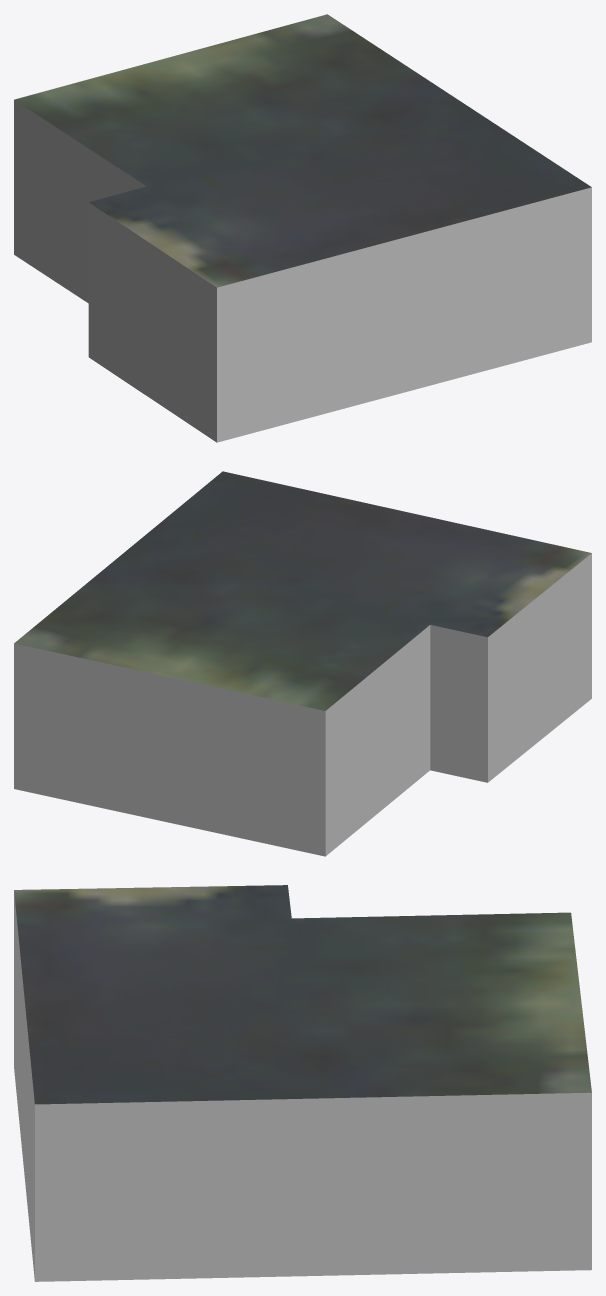
The model's file is DEBW_0010007TxcC.gltf.
3 renders of one model, top to bottom at view 1: azimuth 30°, elevation 25°; view 2: azimuth 150°, elevation 25°; view 3: azimuth 270°, elevation 25°, orthographic. The views are drawn at different scales.
Visible parts, largest first — view 1: Z_UP; view 2: Z_UP; view 3: Z_UP.
Part boxes in pixels (bbox=[...]): Z_UP: bbox=[14, 14, 591, 442]; Z_UP: bbox=[14, 471, 591, 856]; Z_UP: bbox=[14, 885, 591, 1281].
Bounding box in the file's own units: 6.71 × 2.53 × 7.47.
Materials: 2 (1 with a texture image).
